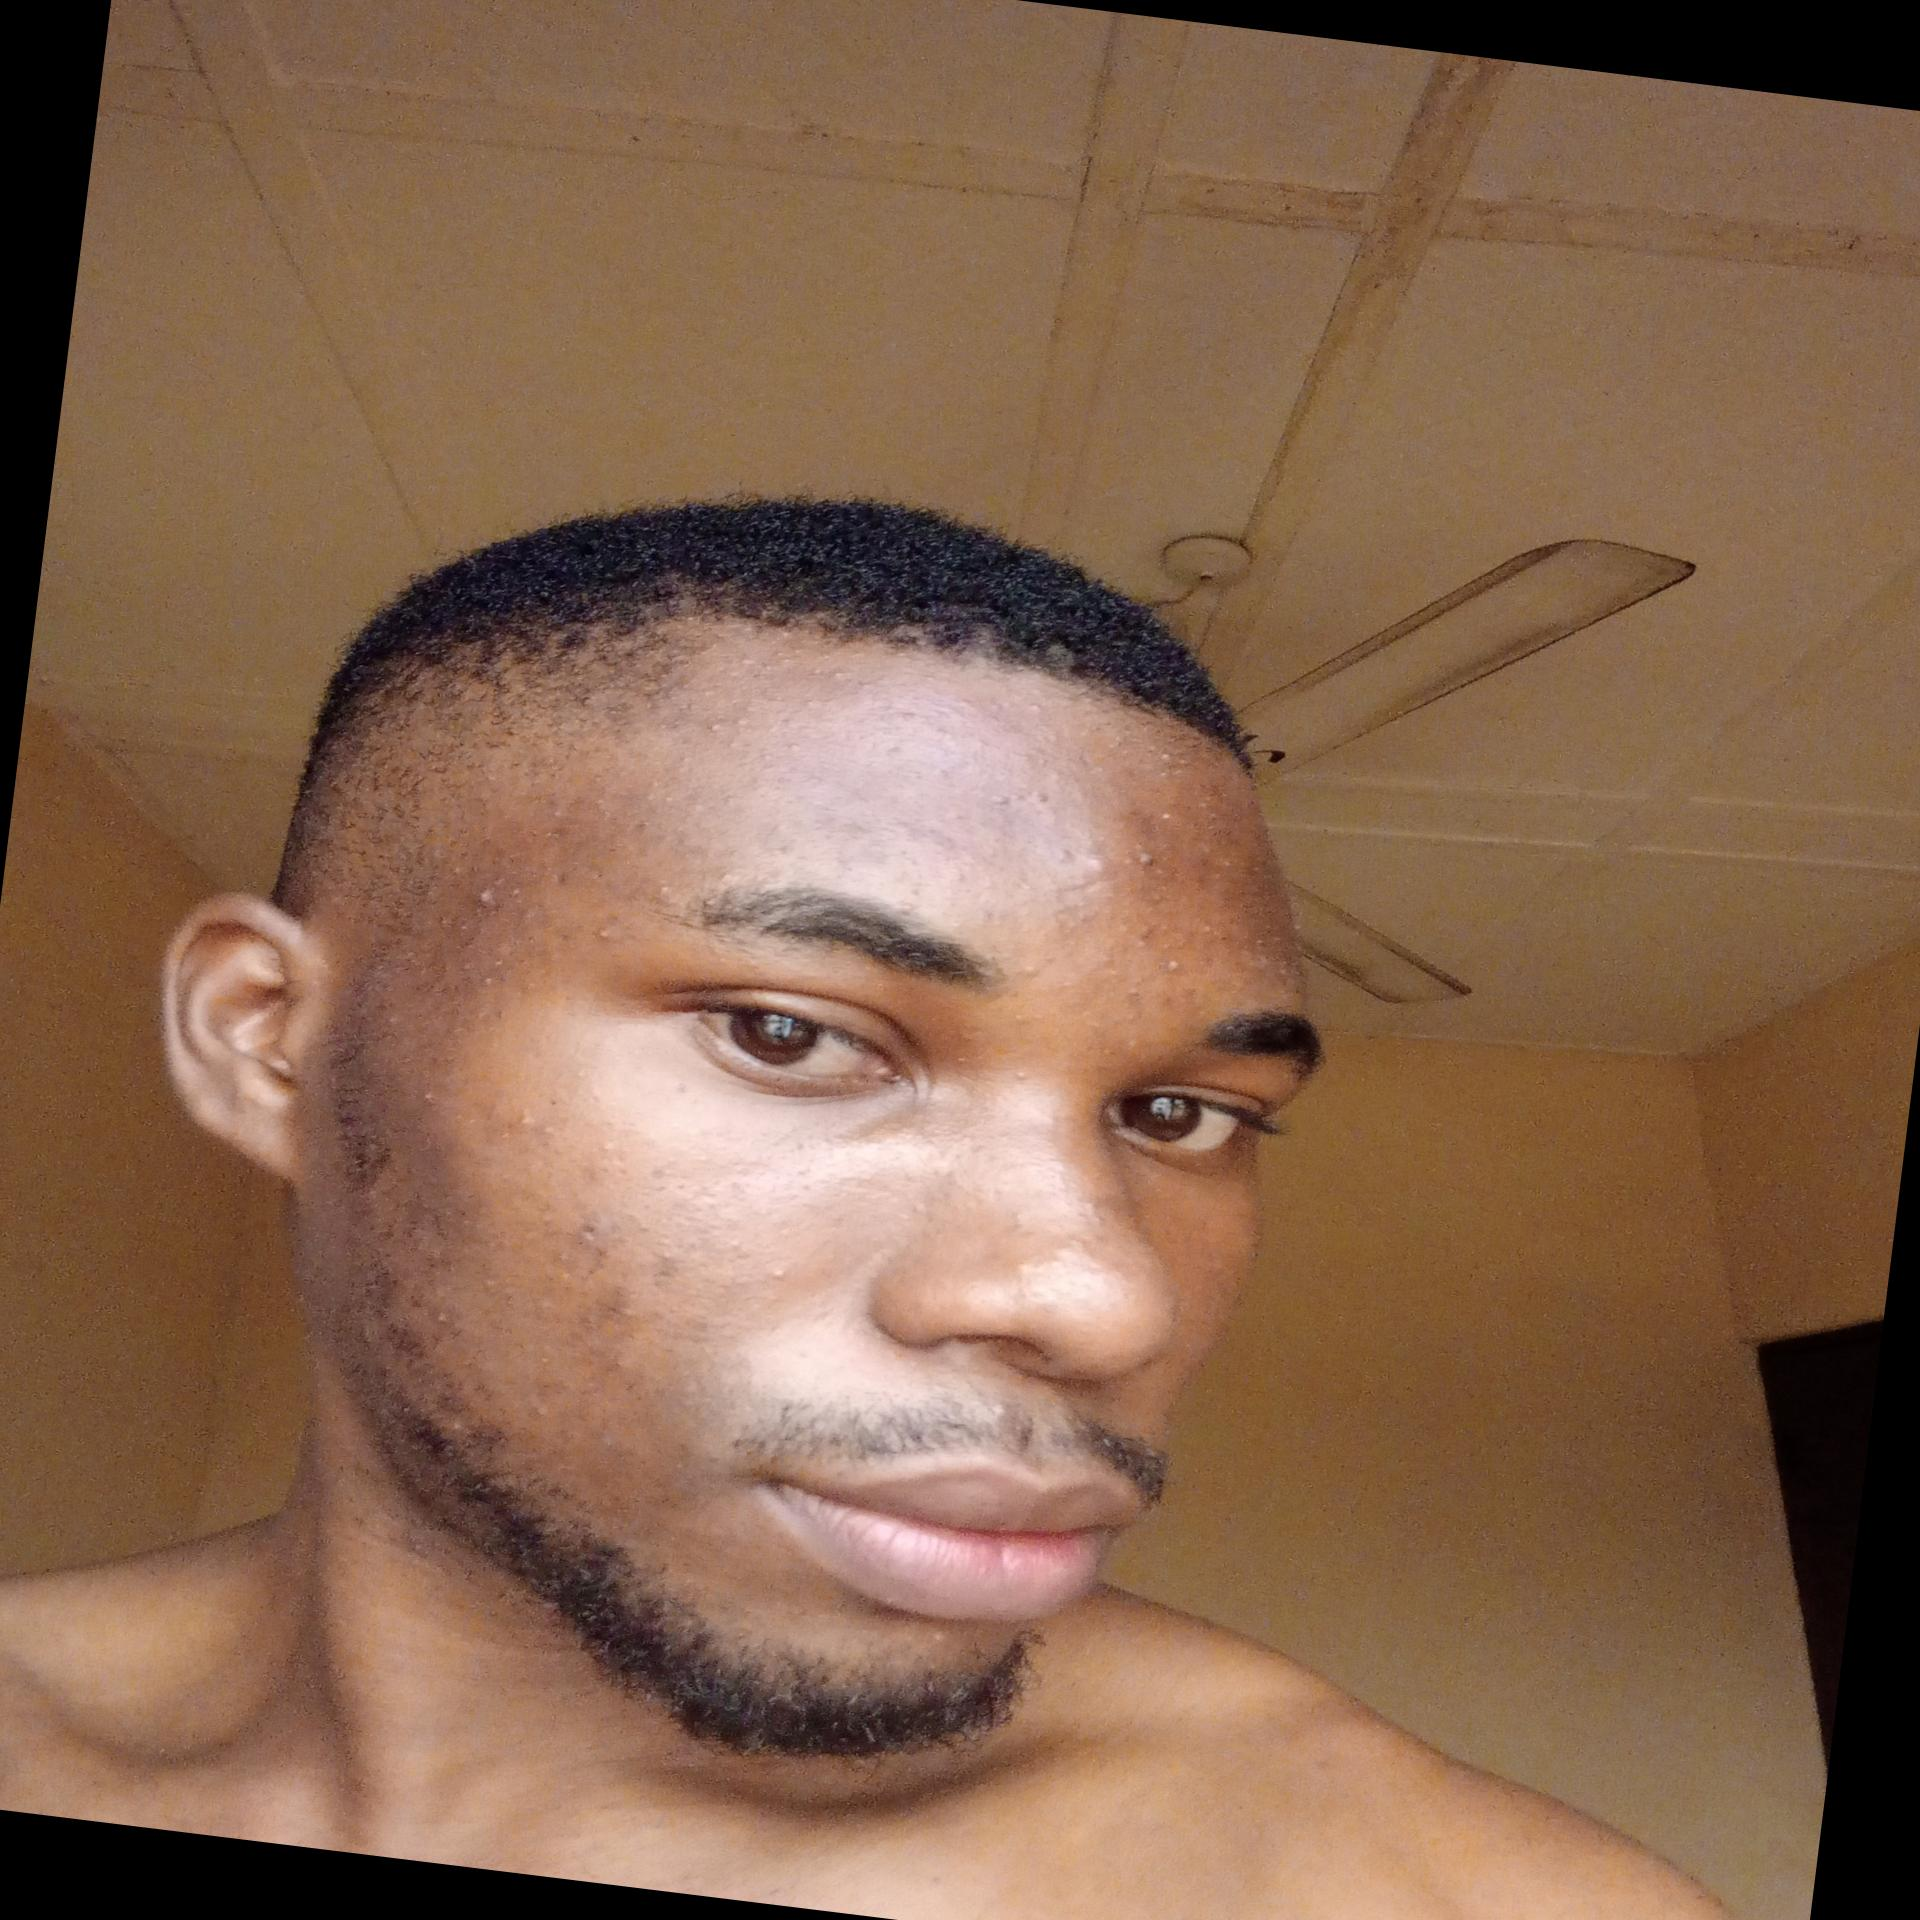Acne: (505, 1108, 615, 1155), (805, 814, 897, 870), (1006, 1231, 1094, 1289), (1127, 916, 1187, 978), (570, 1294, 636, 1343), (561, 1211, 626, 1261), (1036, 837, 1111, 879), (640, 1240, 705, 1282), (791, 661, 872, 684), (1064, 1190, 1108, 1231), (751, 1257, 802, 1289), (461, 877, 505, 913), (1016, 951, 1057, 983), (877, 737, 913, 768), (1002, 1060, 1036, 1092), (1109, 981, 1152, 1006), (424, 1301, 459, 1329), (981, 784, 1016, 811), (644, 872, 679, 898), (702, 714, 738, 737), (707, 862, 737, 890), (1127, 844, 1160, 869), (1029, 781, 1055, 811), (585, 923, 617, 946), (893, 703, 927, 724)
